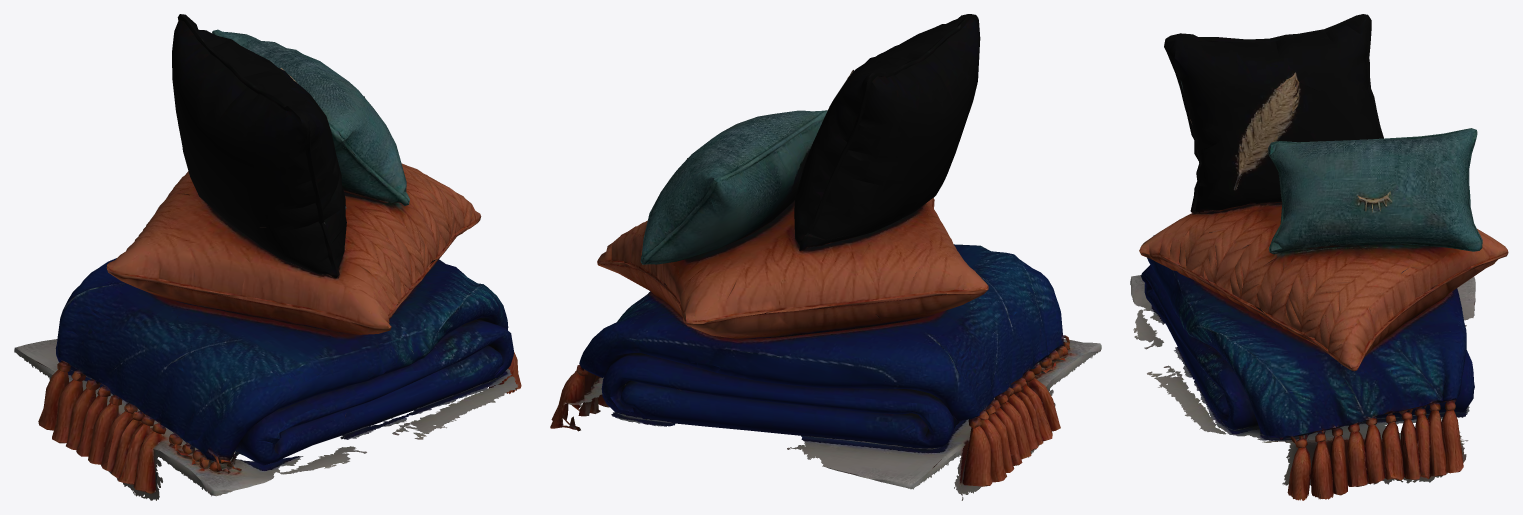
The model's file is HY-12_textiles_game.glb.
3 renders of one model, left to right at view 1: azimuth 30°, elevation 25°; view 2: azimuth 150°, elevation 25°; view 3: azimuth 270°, elevation 25°, orthographic. The views are drawn at different scales.
Visible parts, largest first — view 1: HY-12_textiles; view 2: HY-12_textiles; view 3: HY-12_textiles.
Boxes of the visible parts, x1,y1,x2,y2 form: HY-12_textiles: (14, 14, 521, 500); HY-12_textiles: (550, 14, 1101, 500); HY-12_textiles: (1130, 14, 1508, 500).
Size of the model in its own units: 0.6508 by 0.5964 by 0.5673.
1 material, 1 textured.
